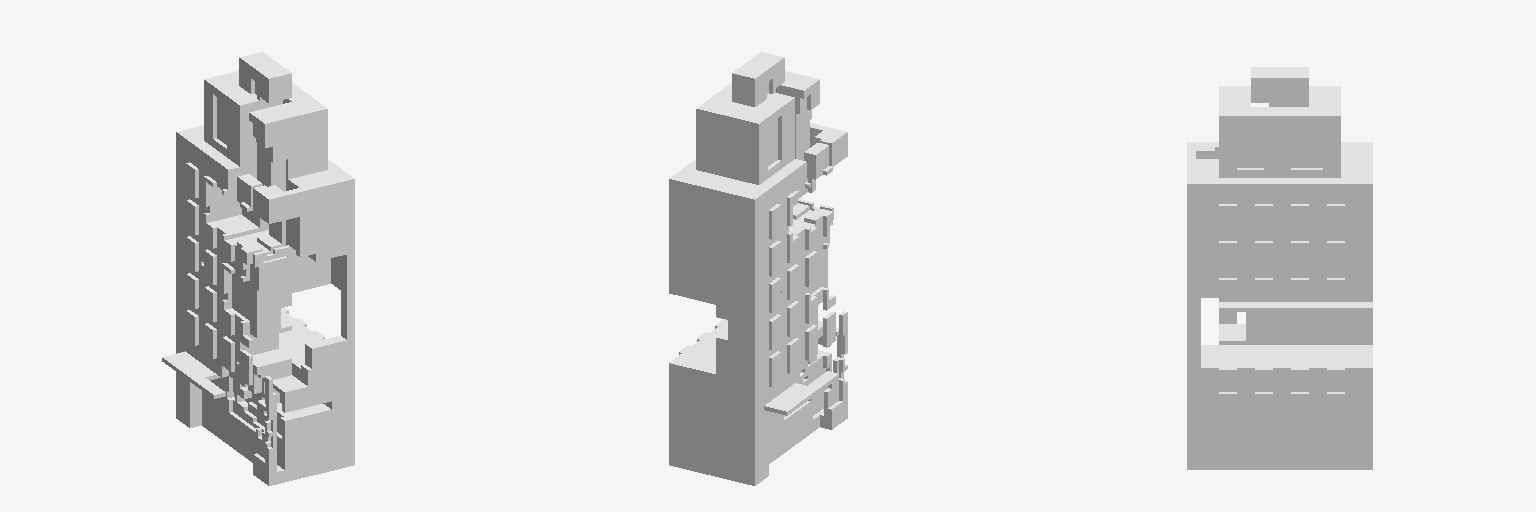
The model's file is rebuild_2.1.obj.
3 renders of one model, left to right at view 1: azimuth 30°, elevation 25°; view 2: azimuth 150°, elevation 25°; view 3: azimuth 270°, elevation 25°, orthographic.
Bounding box in the file's own units: 29 × 92 × 41.